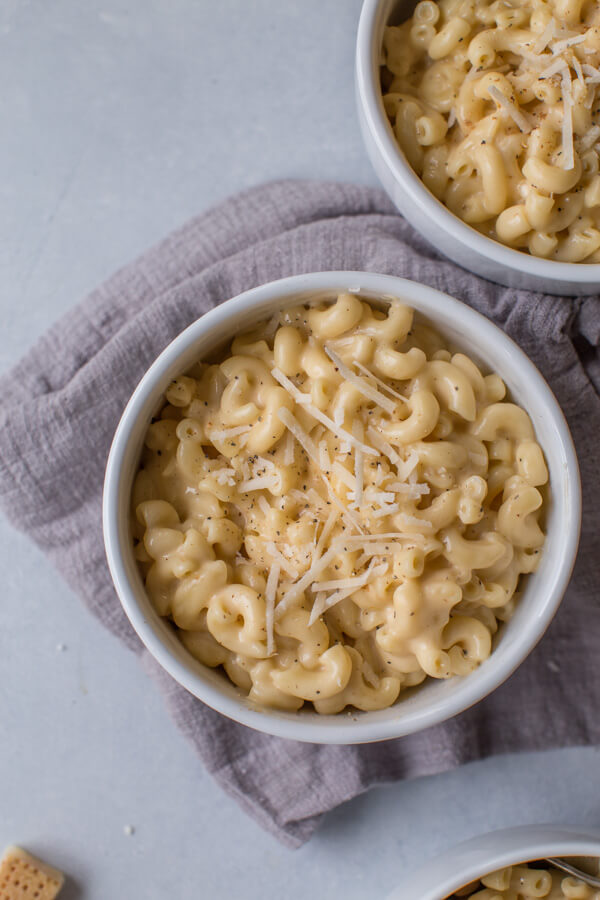macncheese: (166, 329, 516, 681)
